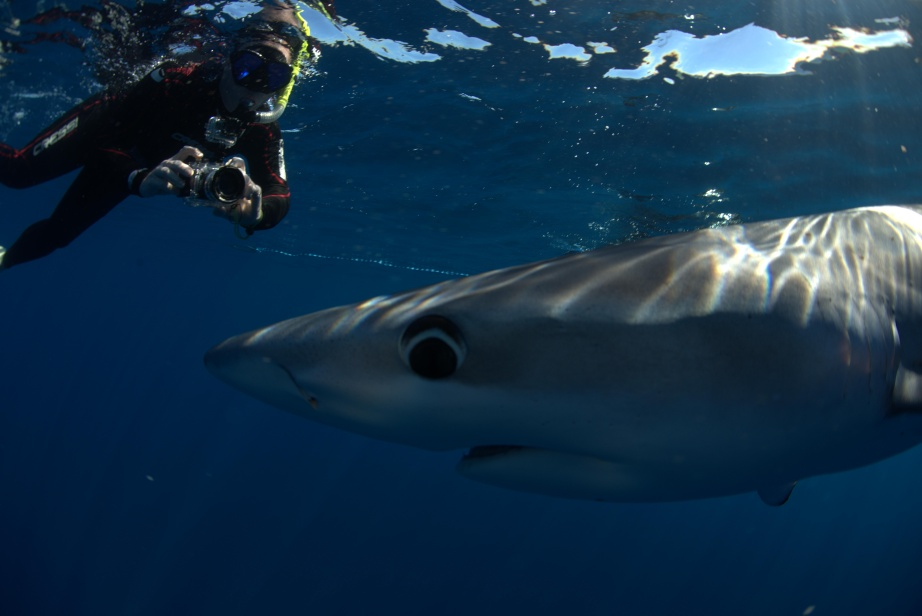Azul: (182, 157, 922, 541)
